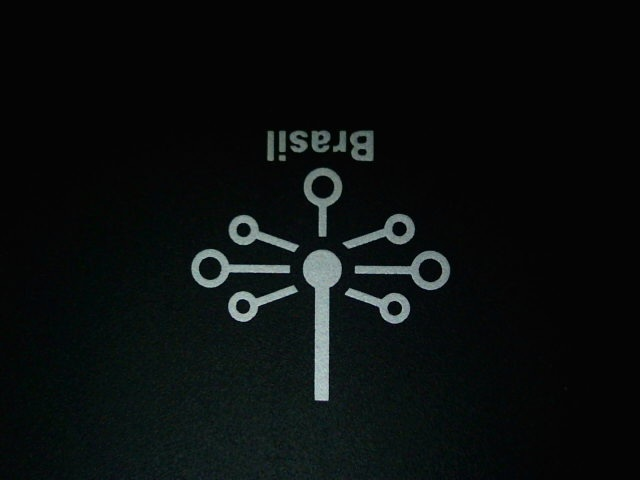BG_Brasil: (167, 117, 474, 423)
